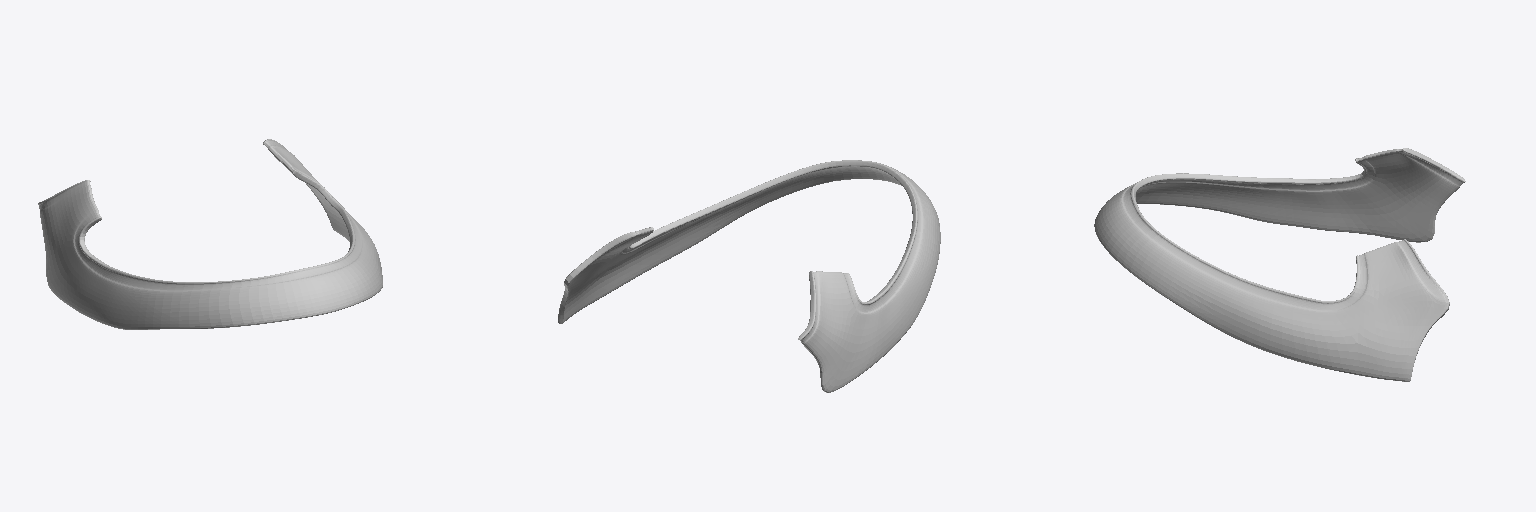
The picture shows the model from 3 angles: view 1: azimuth 30°, elevation 25°; view 2: azimuth 150°, elevation 25°; view 3: azimuth 270°, elevation 25°; orthographic projection.
Visible parts, largest first — view 1: Puntera; view 2: Puntera; view 3: Puntera.
Part boxes in pixels (x1,y1,x2,y2): Puntera: (38,139,382,329); Puntera: (558,160,940,392); Puntera: (1094,148,1465,381).
Size of the model in its own units: 0.1073 by 0.0398 by 0.1188.